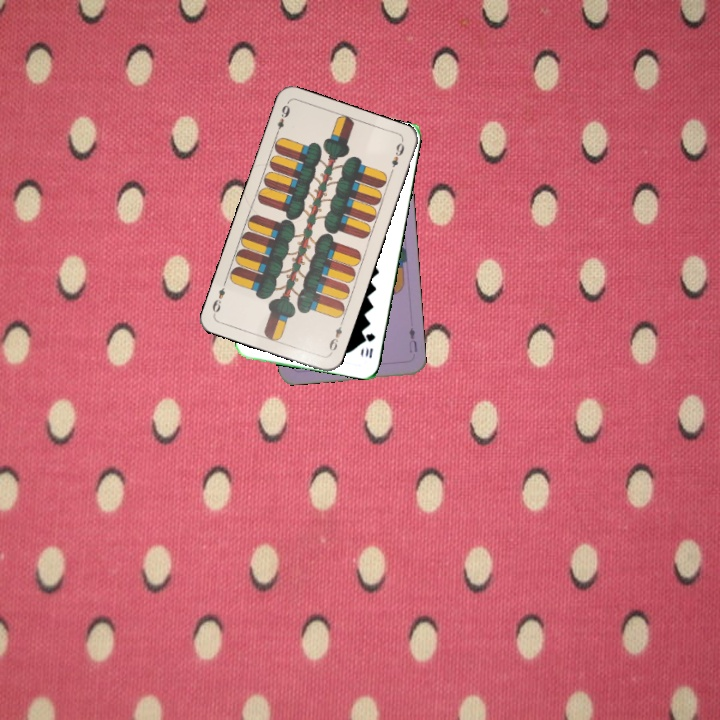E9: (271, 101, 292, 139), (325, 318, 345, 357)
EU: (405, 324, 420, 355)
G10: (361, 329, 378, 360)
